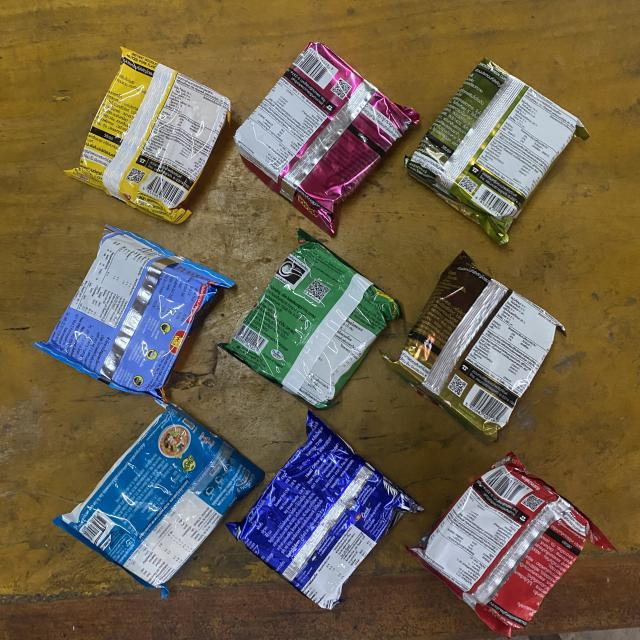plastik: (54, 402, 264, 596), (228, 411, 422, 609), (408, 452, 614, 636), (235, 42, 419, 235), (35, 226, 234, 399), (405, 59, 589, 244), (390, 251, 564, 440), (220, 230, 400, 409), (65, 48, 230, 222)
